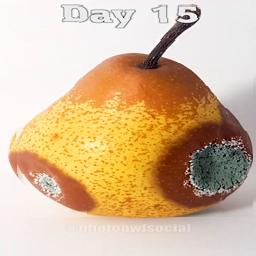Pear Rotten: (10, 5, 253, 217)
